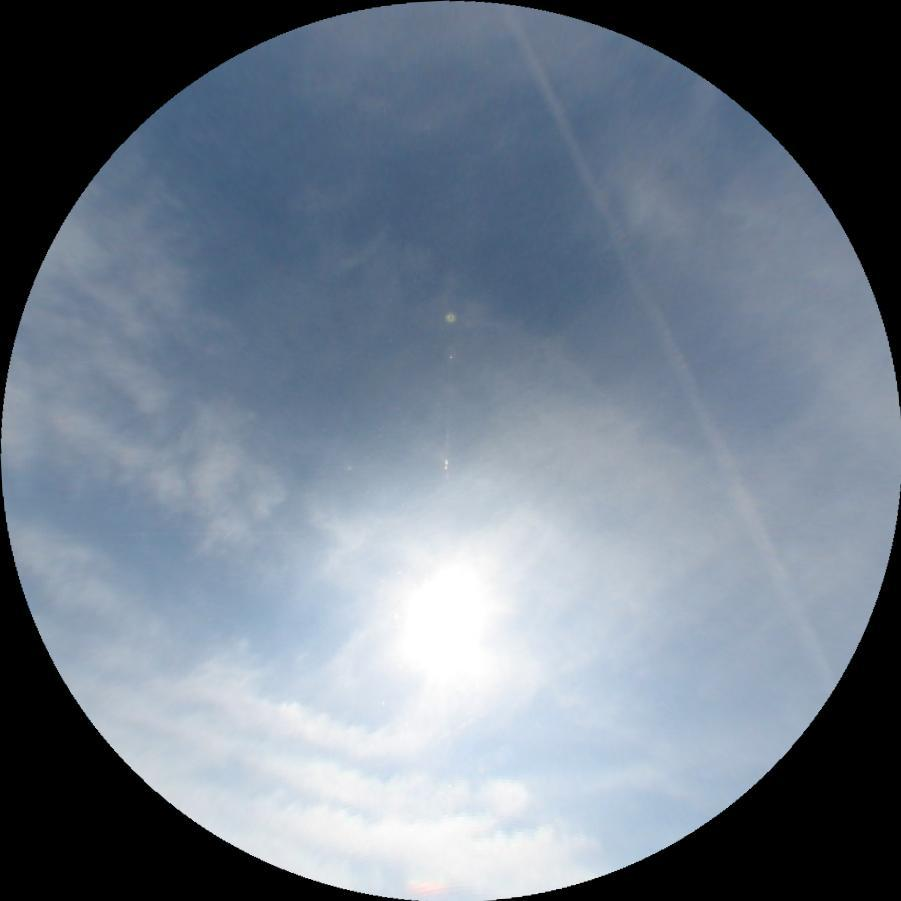contrail old: (494, 0, 842, 700)
sun: (400, 560, 489, 671)
